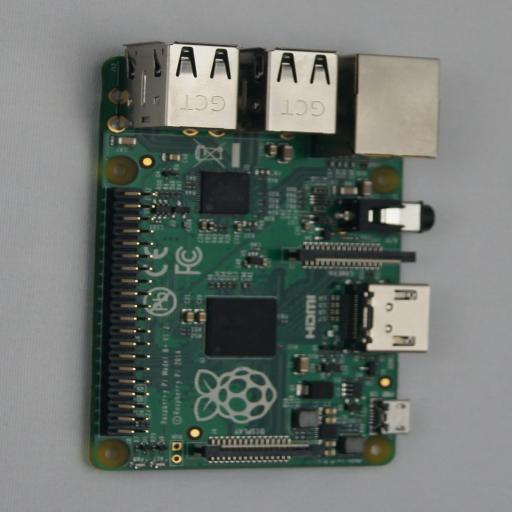Raspberry Pi 1 B-: (82, 41, 435, 471)
